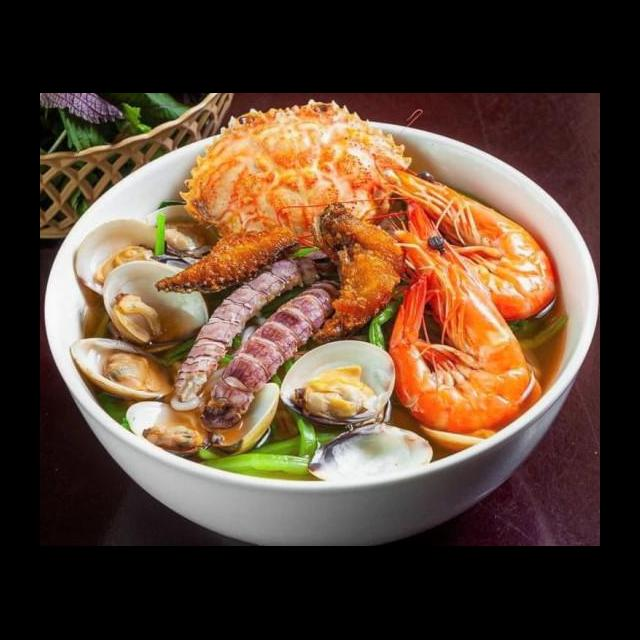ca: (302, 200, 407, 350), (147, 218, 300, 300)
tom: (378, 200, 543, 438), (361, 162, 560, 328)
tom tit: (167, 242, 345, 404), (198, 274, 349, 434)
